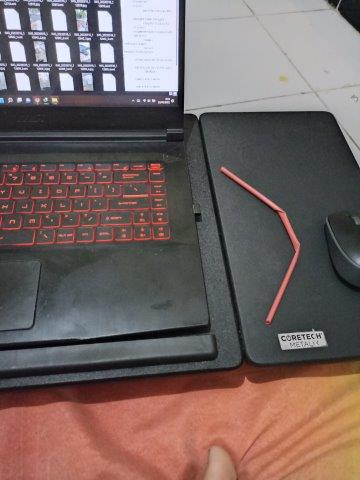sedotan: (220, 167, 300, 324)
